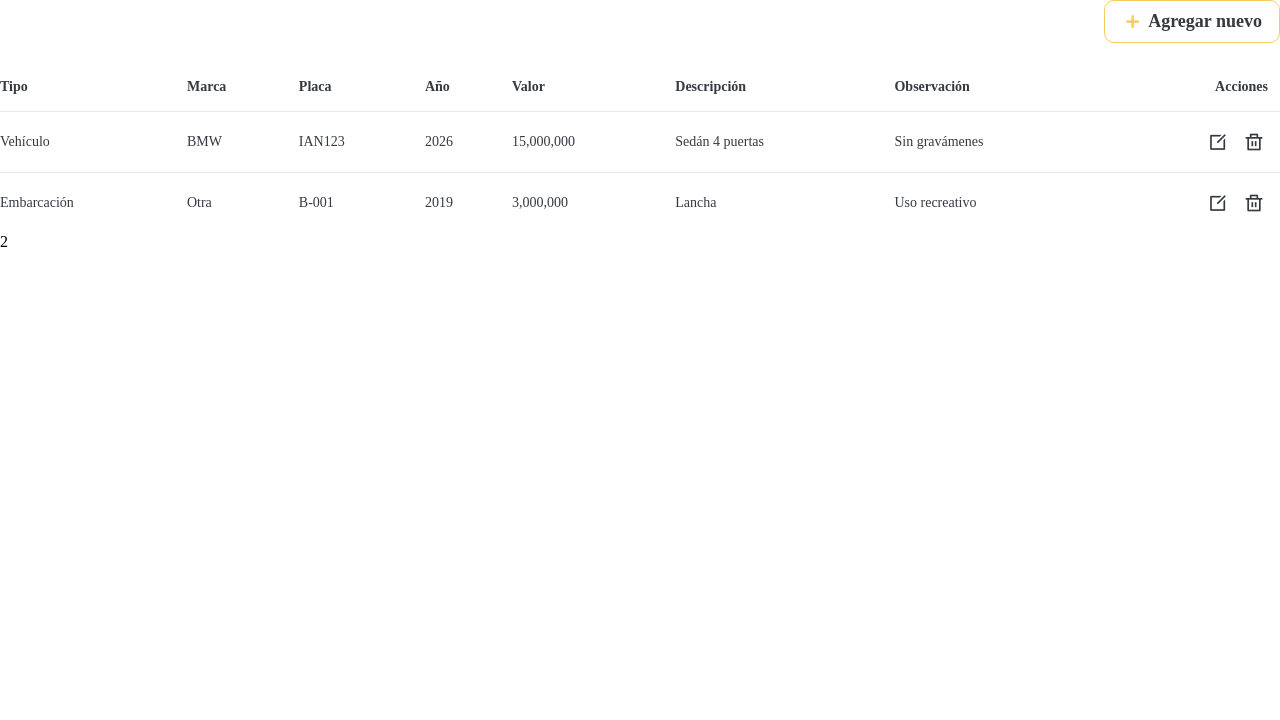
MovableAssets (paso 5) › removes an item and confirms with a notification
The image size is (1280, 720).
Click the button named "Eliminar placa B-001".
click(1254, 203)  # box top-left (1240, 189), bottom-right (1268, 217)
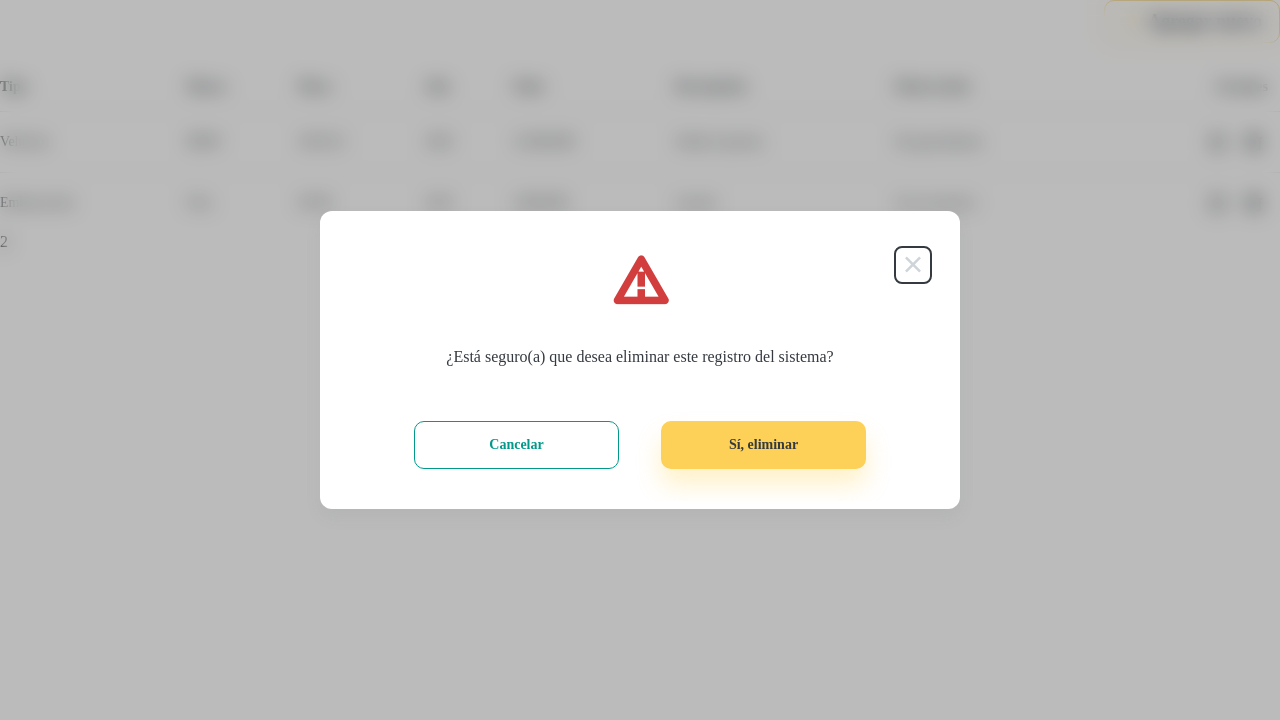
Click the button "Sí, eliminar".
click(764, 445)  # box top-left (661, 421), bottom-right (866, 469)
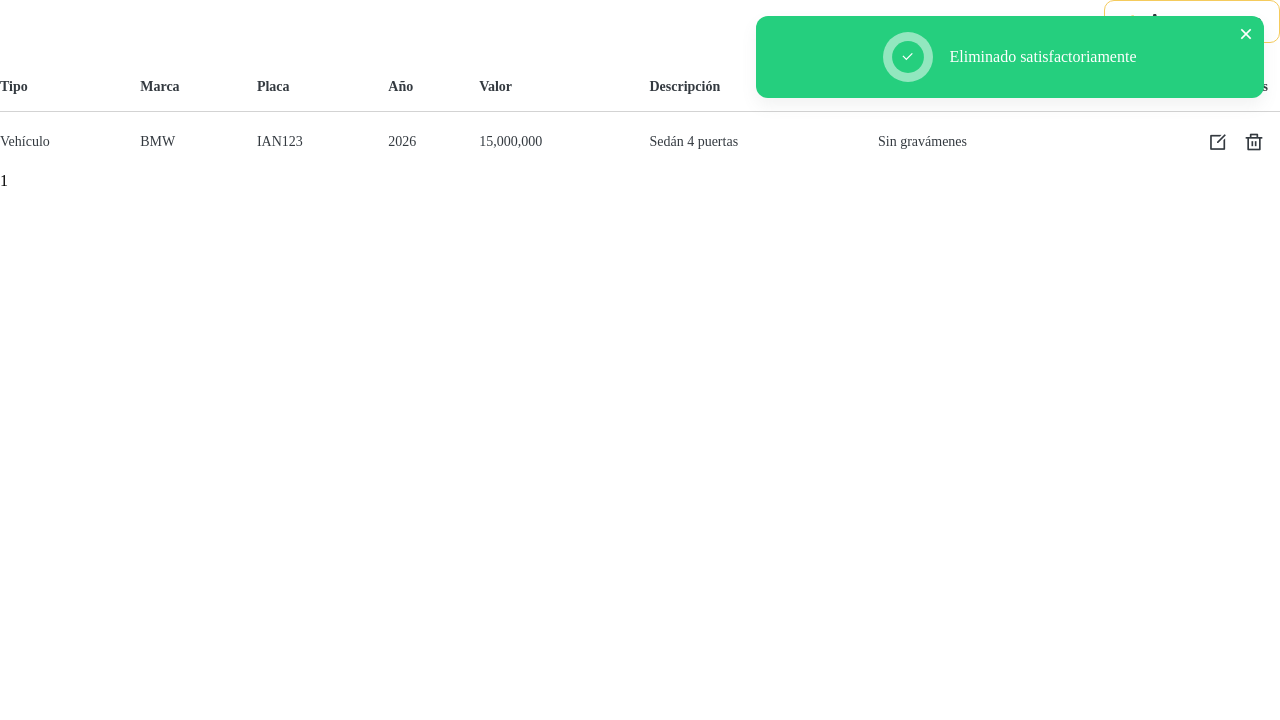
Now the text "B-001" is gone
Now the text with test id "count" reads "1", box top-left (0, 172), bottom-right (8, 189)
Now the text "Eliminado satisfactoriamente" is shown, box top-left (950, 47), bottom-right (1136, 67)
